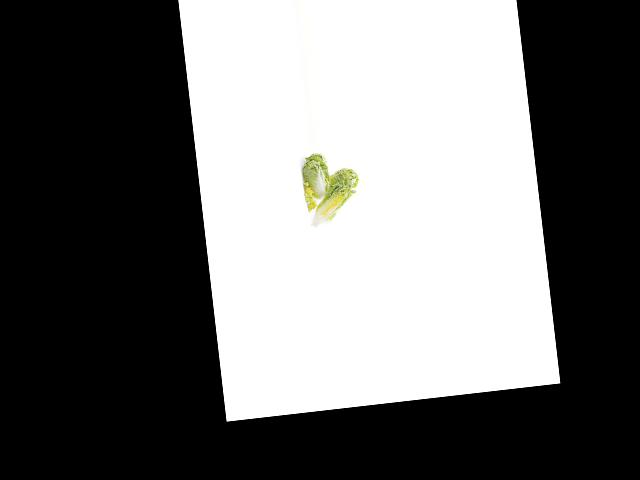lettuce: (298, 153, 334, 206)
